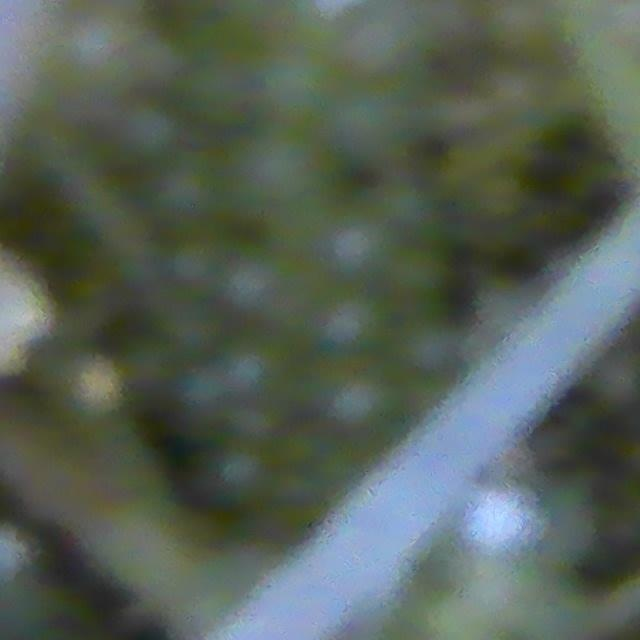SeaGrape: (241, 137, 326, 218), (221, 346, 301, 425), (260, 47, 337, 123), (313, 286, 390, 360), (226, 264, 300, 333), (321, 212, 392, 281), (323, 367, 393, 430)
